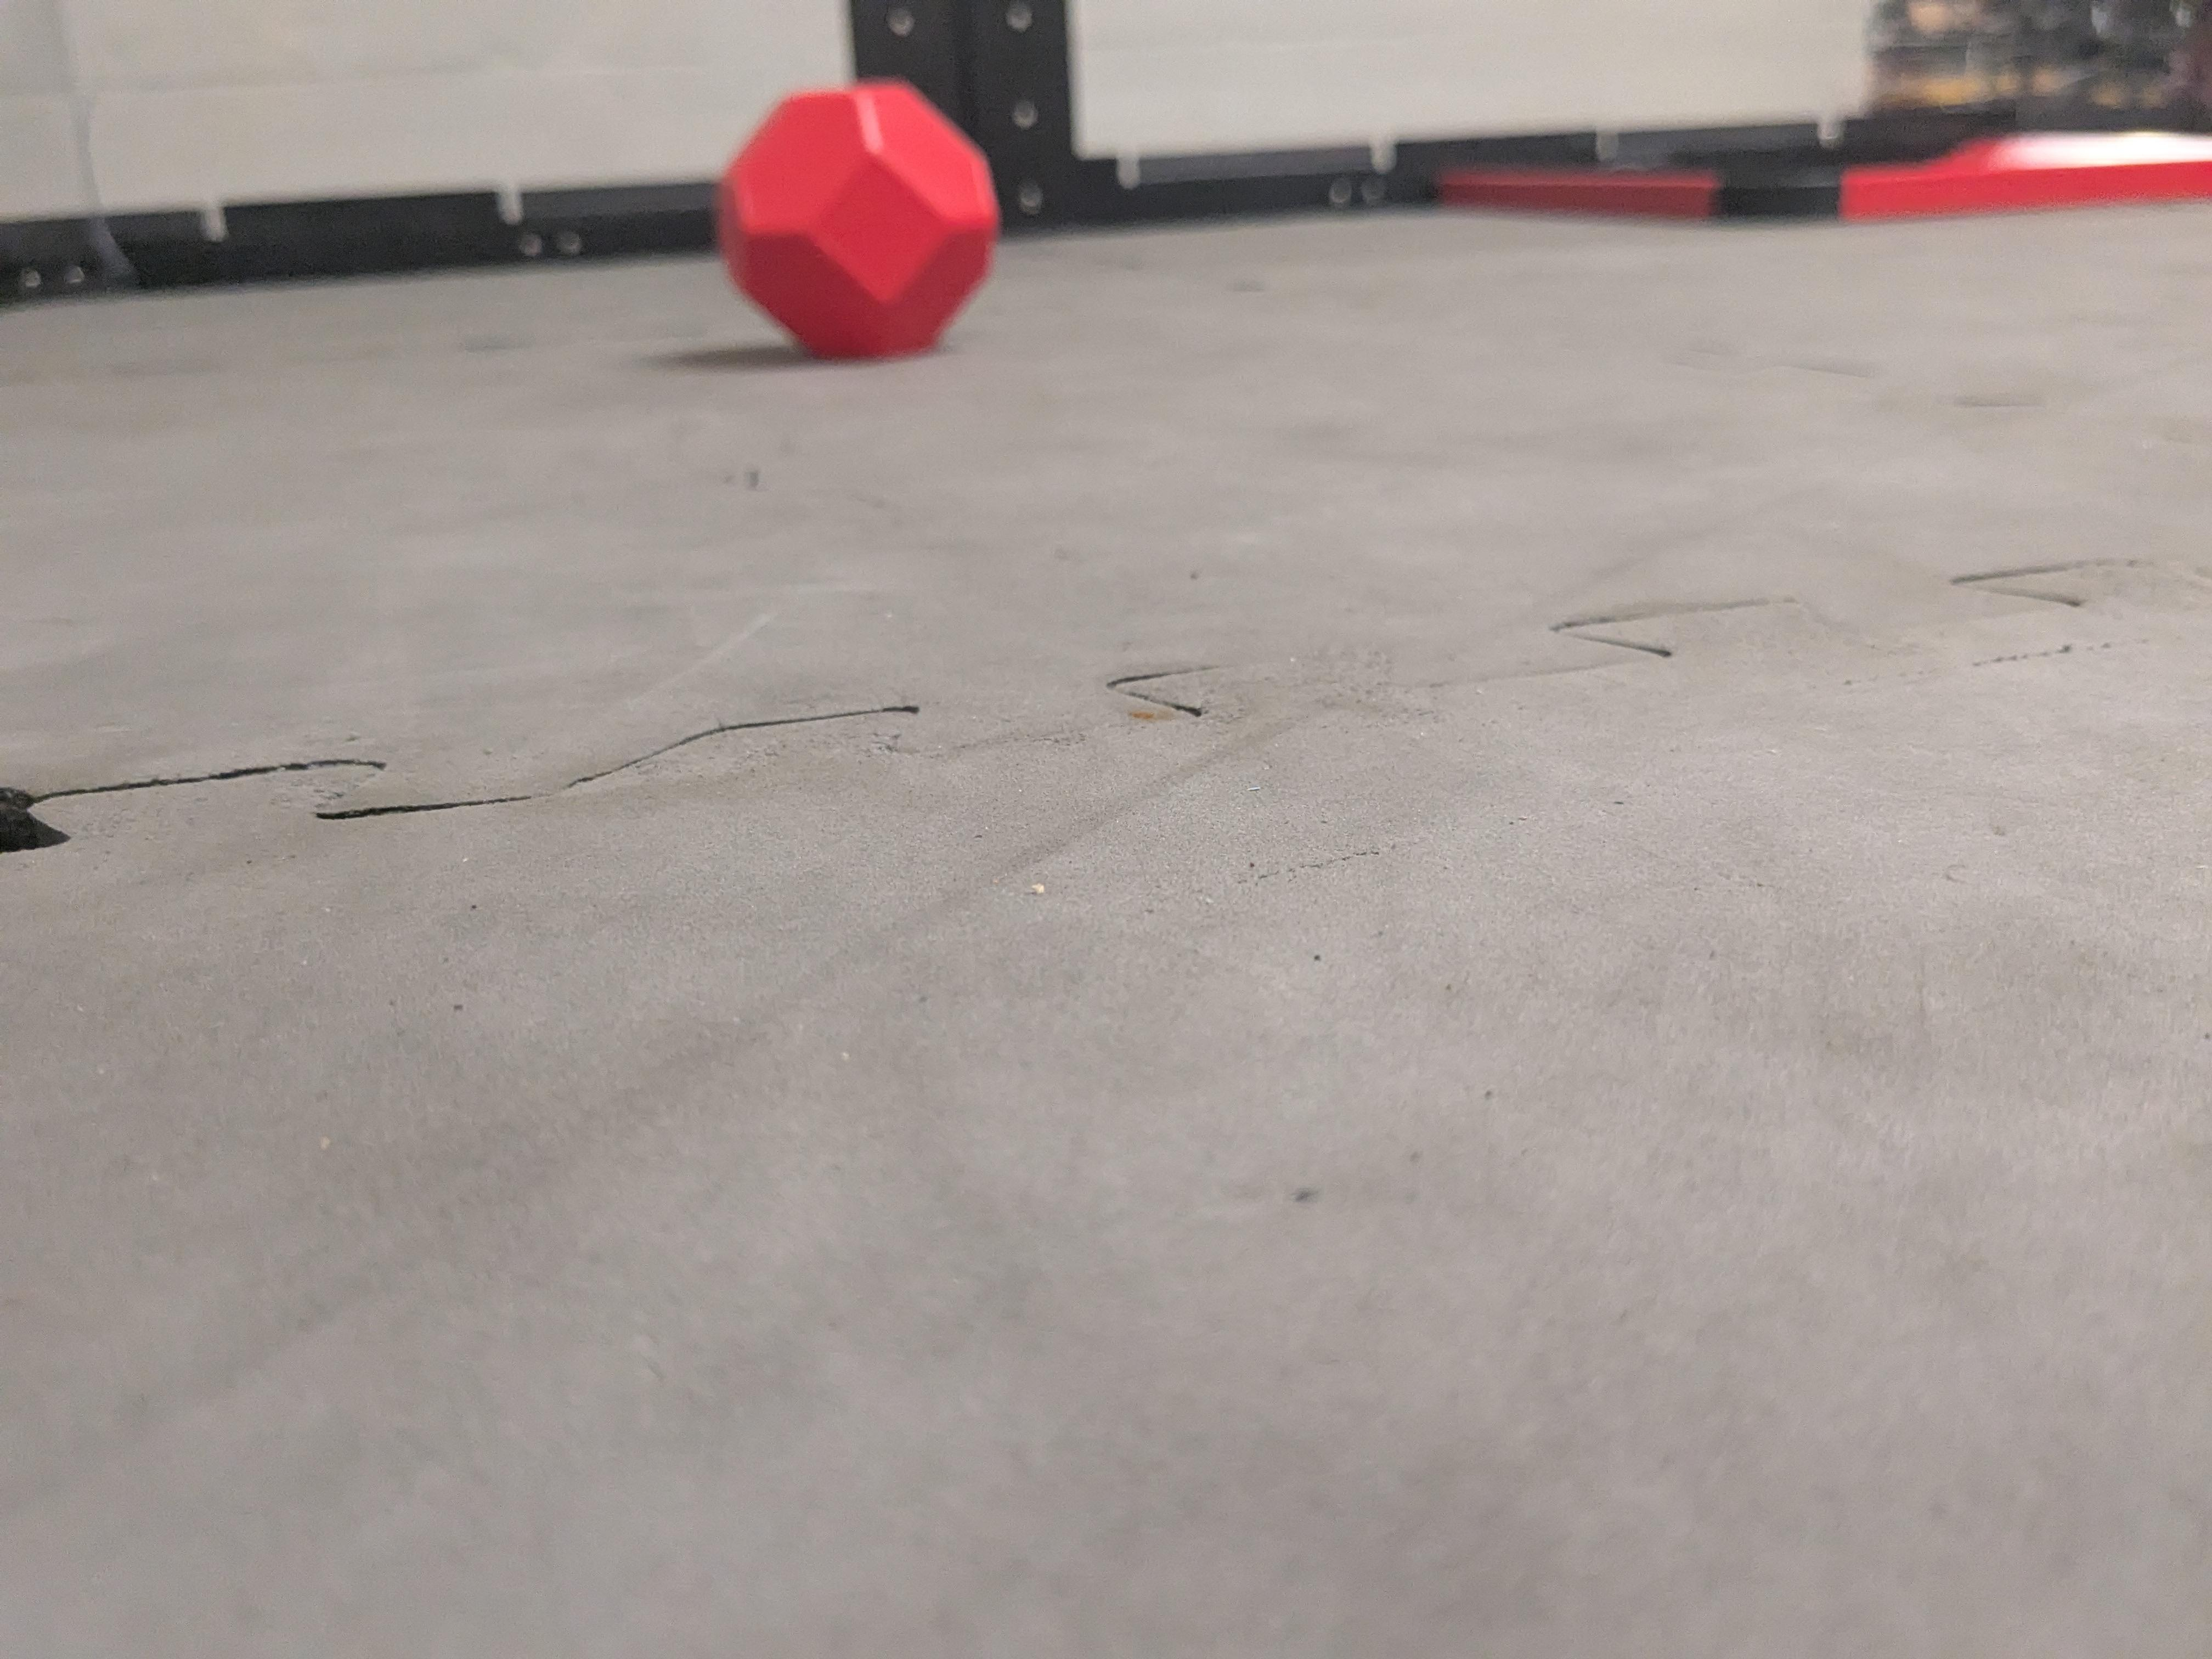Vex-Pieces-RED: (718, 85, 991, 357)
